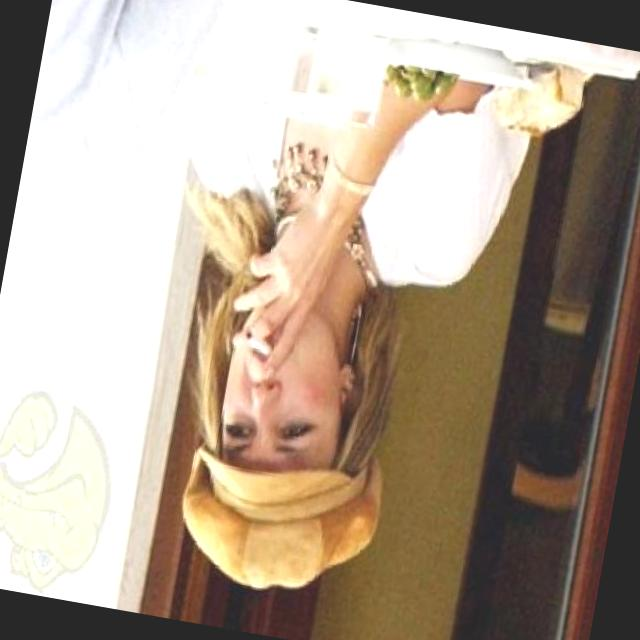cigarette: (240, 328, 278, 361)
